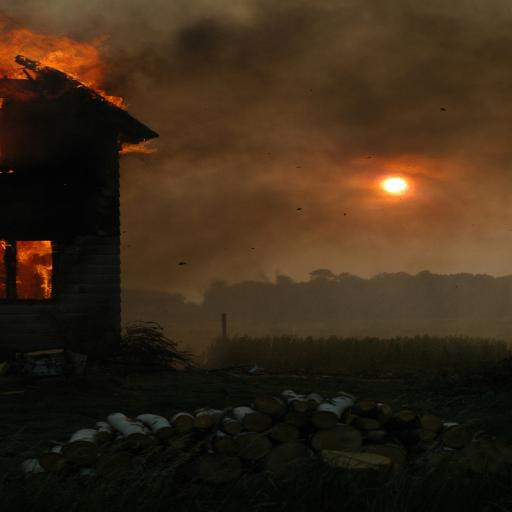buildingfire: (0, 3, 204, 392)
